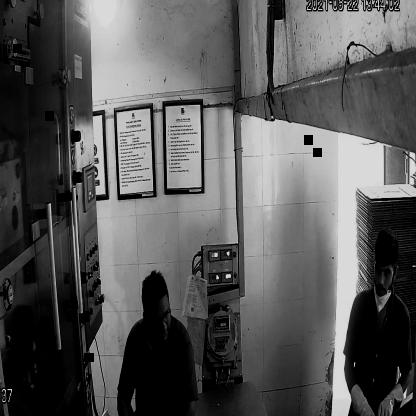goggles: (141, 308, 174, 330)
no_goggles: (372, 260, 398, 280)
